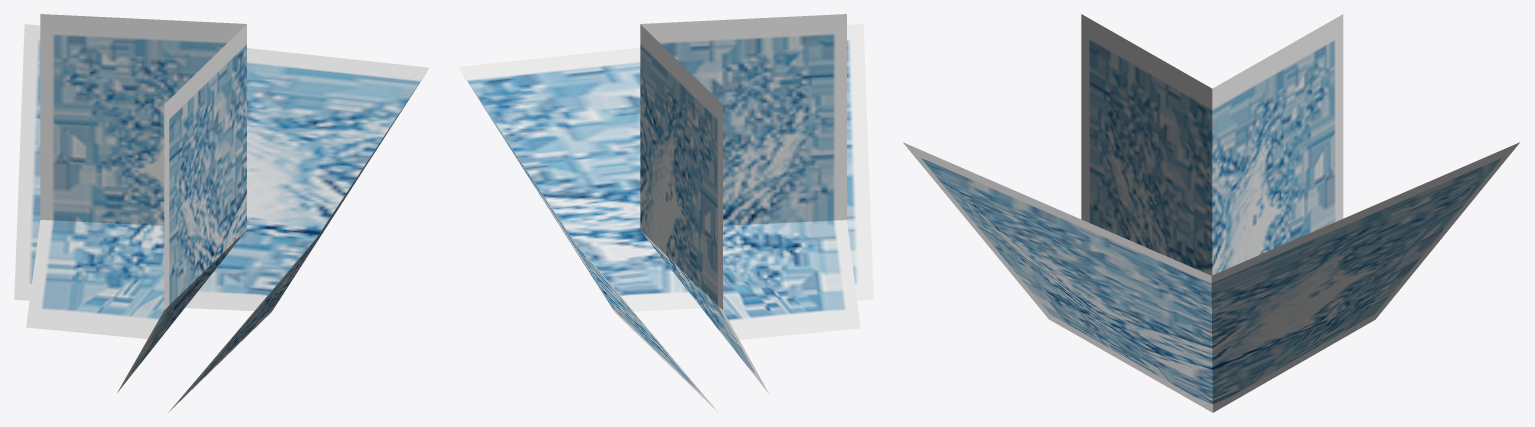
The model's file is droplet.glb.
3 renders of one model, left to right at view 1: azimuth 30°, elevation 25°; view 2: azimuth 150°, elevation 25°; view 3: azimuth 270°, elevation 25°, orthographic. The views are drawn at different scales.
Parts seen in each view (by area): view 1: droplet; view 2: droplet; view 3: droplet.
Boxes of the visible parts, x1,y1,x2,y2 form: droplet: (14, 14, 429, 412); droplet: (458, 14, 873, 411); droplet: (903, 14, 1519, 412).
Bounding box in the file's own units: 0.1691 × 0.1329 × 0.2391.
1 material, 1 textured.
